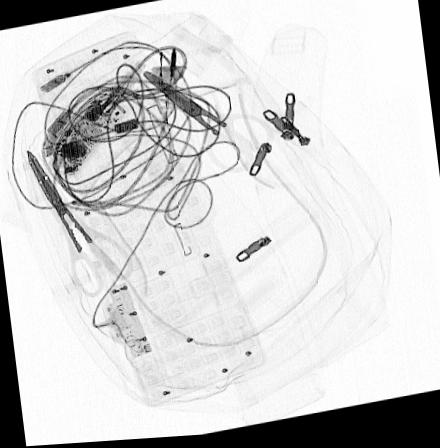Scissors: (26, 148, 134, 299), (140, 72, 275, 175)
